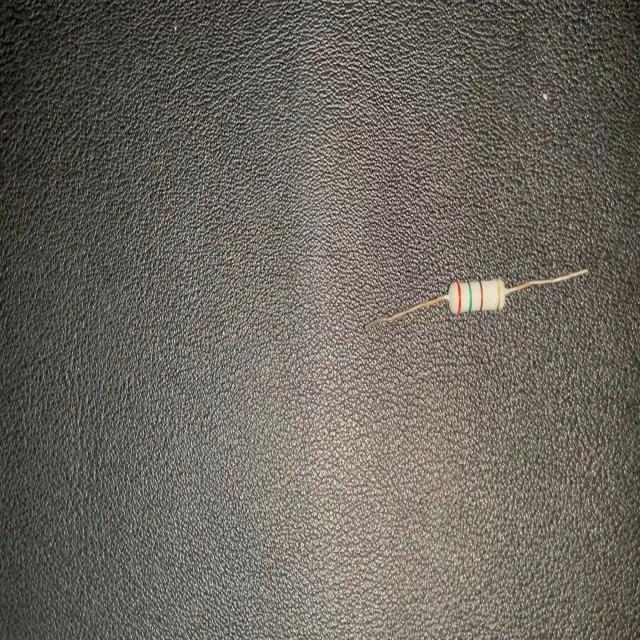resistor: (364, 268, 588, 337)
